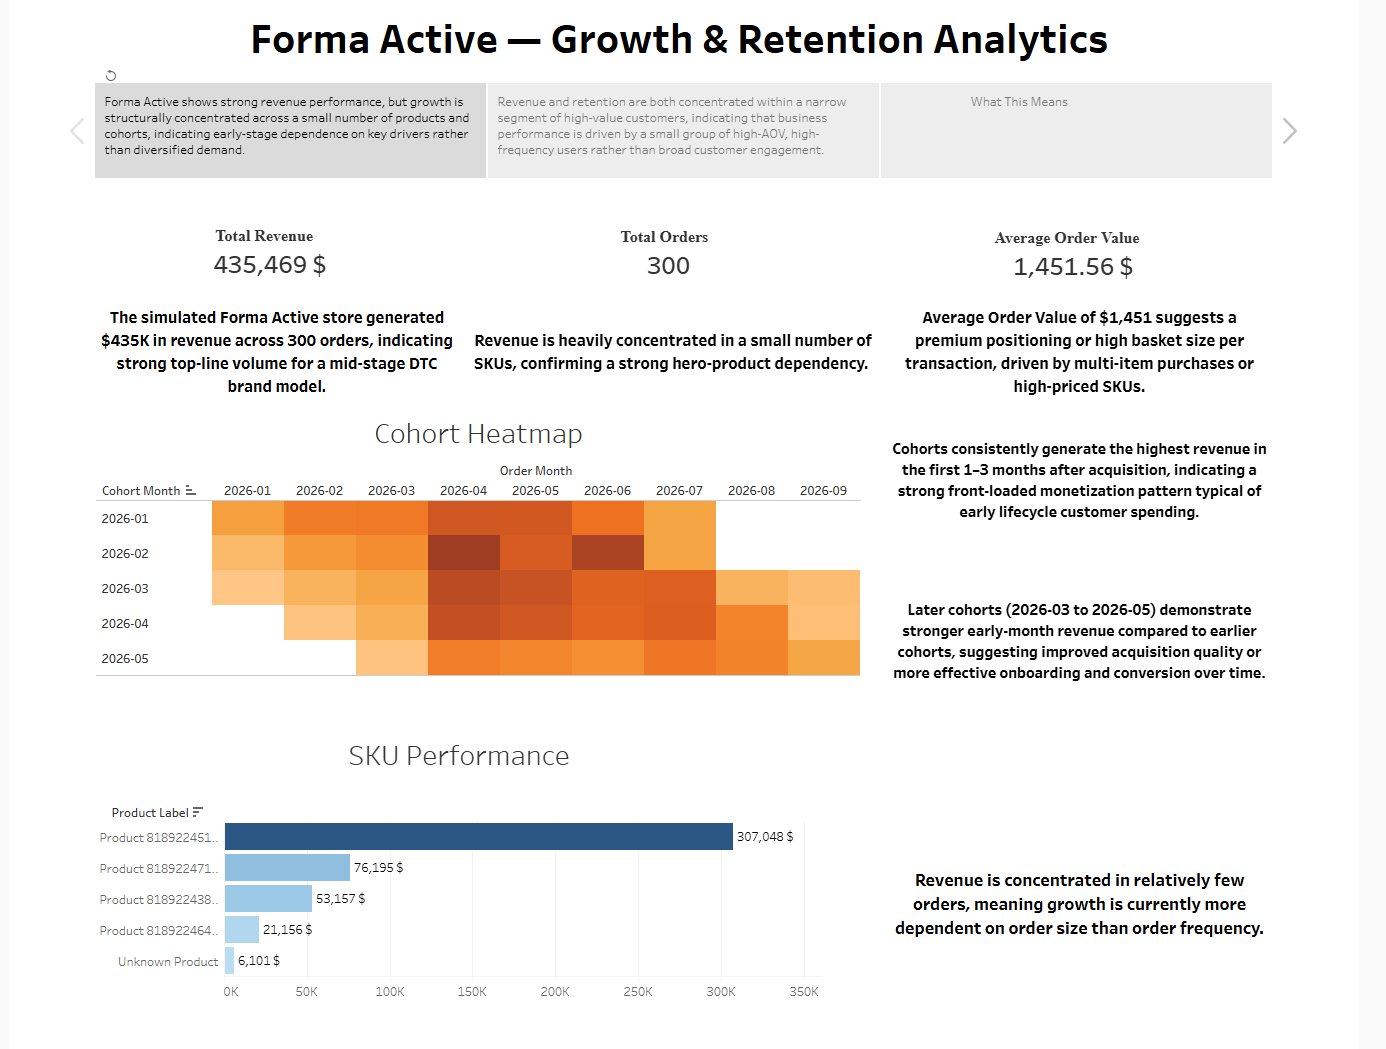

The page's visual inventory and layout, read from the dashboard file:
{"tool":"tableau","page":{"name":"Q1Q7Q3_KPI_Combined_Dashboard","canvas":[1200,900],"ordinal":0},"visuals":[{"type":"worksheet","title":"Q1_KPI_Revenue","mark":"Text","box":[8,8,371,101]},{"type":"worksheet","title":"Q1_KPI_Orders","mark":"Text","box":[379,8,421,101]},{"type":"worksheet","title":"Q1_KPI_AOV","mark":"Text","box":[800,8,392,101]},{"type":"text","box":[8,109,371,105]},{"type":"text","box":[379,109,421,105]},{"type":"text","box":[800,109,392,105]},{"type":"worksheet","title":"Q7_Cohort_Heatmap","mark":"Square","rows":["cohort_month"],"cols":["order_month"],"box":[8,214,792,322]},{"type":"text","box":[800,214,392,154]},{"type":"text","box":[800,368,392,168]},{"type":"worksheet","title":"Q3_SKU_Performance","mark":"Bar","rows":["Calculation_0442617985048577"],"cols":["revenue"],"box":[8,536,792,356]},{"type":"text","box":[800,536,392,356]}]}

Visuals, with their boxes in screenshot pixels (x1, y1, x2, y2), scaled from the page's 1200x900 canvas onto the 1386x1049 screenshot:
"Q1_KPI_Revenue" worksheet (Text marks): bbox=(9, 9, 438, 127)
"Q1_KPI_Orders" worksheet (Text marks): bbox=(438, 9, 924, 127)
"Q1_KPI_AOV" worksheet (Text marks): bbox=(924, 9, 1377, 127)
text: bbox=(9, 127, 438, 249)
text: bbox=(438, 127, 924, 249)
text: bbox=(924, 127, 1377, 249)
"Q7_Cohort_Heatmap" worksheet (Square marks): bbox=(9, 249, 924, 625)
text: bbox=(924, 249, 1377, 429)
text: bbox=(924, 429, 1377, 625)
"Q3_SKU_Performance" worksheet (Bar marks): bbox=(9, 625, 924, 1040)
text: bbox=(924, 625, 1377, 1040)
